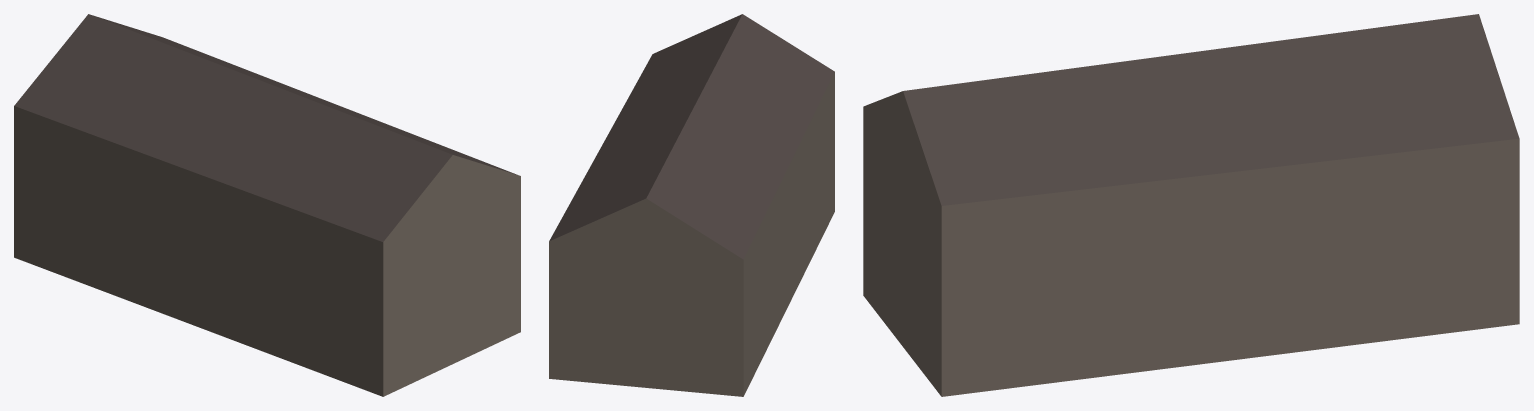
3 renders of one model, left to right at view 1: azimuth 30°, elevation 25°; view 2: azimuth 150°, elevation 25°; view 3: azimuth 270°, elevation 25°, orthographic. The views are drawn at different scales.
Visible parts, largest first — view 1: HP-w1198645048; view 2: HP-w1198645048; view 3: HP-w1198645048.
Part boxes in pixels (left/top/right/bottom): HP-w1198645048: left=14, top=14, right=520, bottom=396; HP-w1198645048: left=549, top=14, right=834, bottom=396; HP-w1198645048: left=863, top=14, right=1519, bottom=396.
Size of the model in its own units: 18.85 by 12.42 by 28.84.
